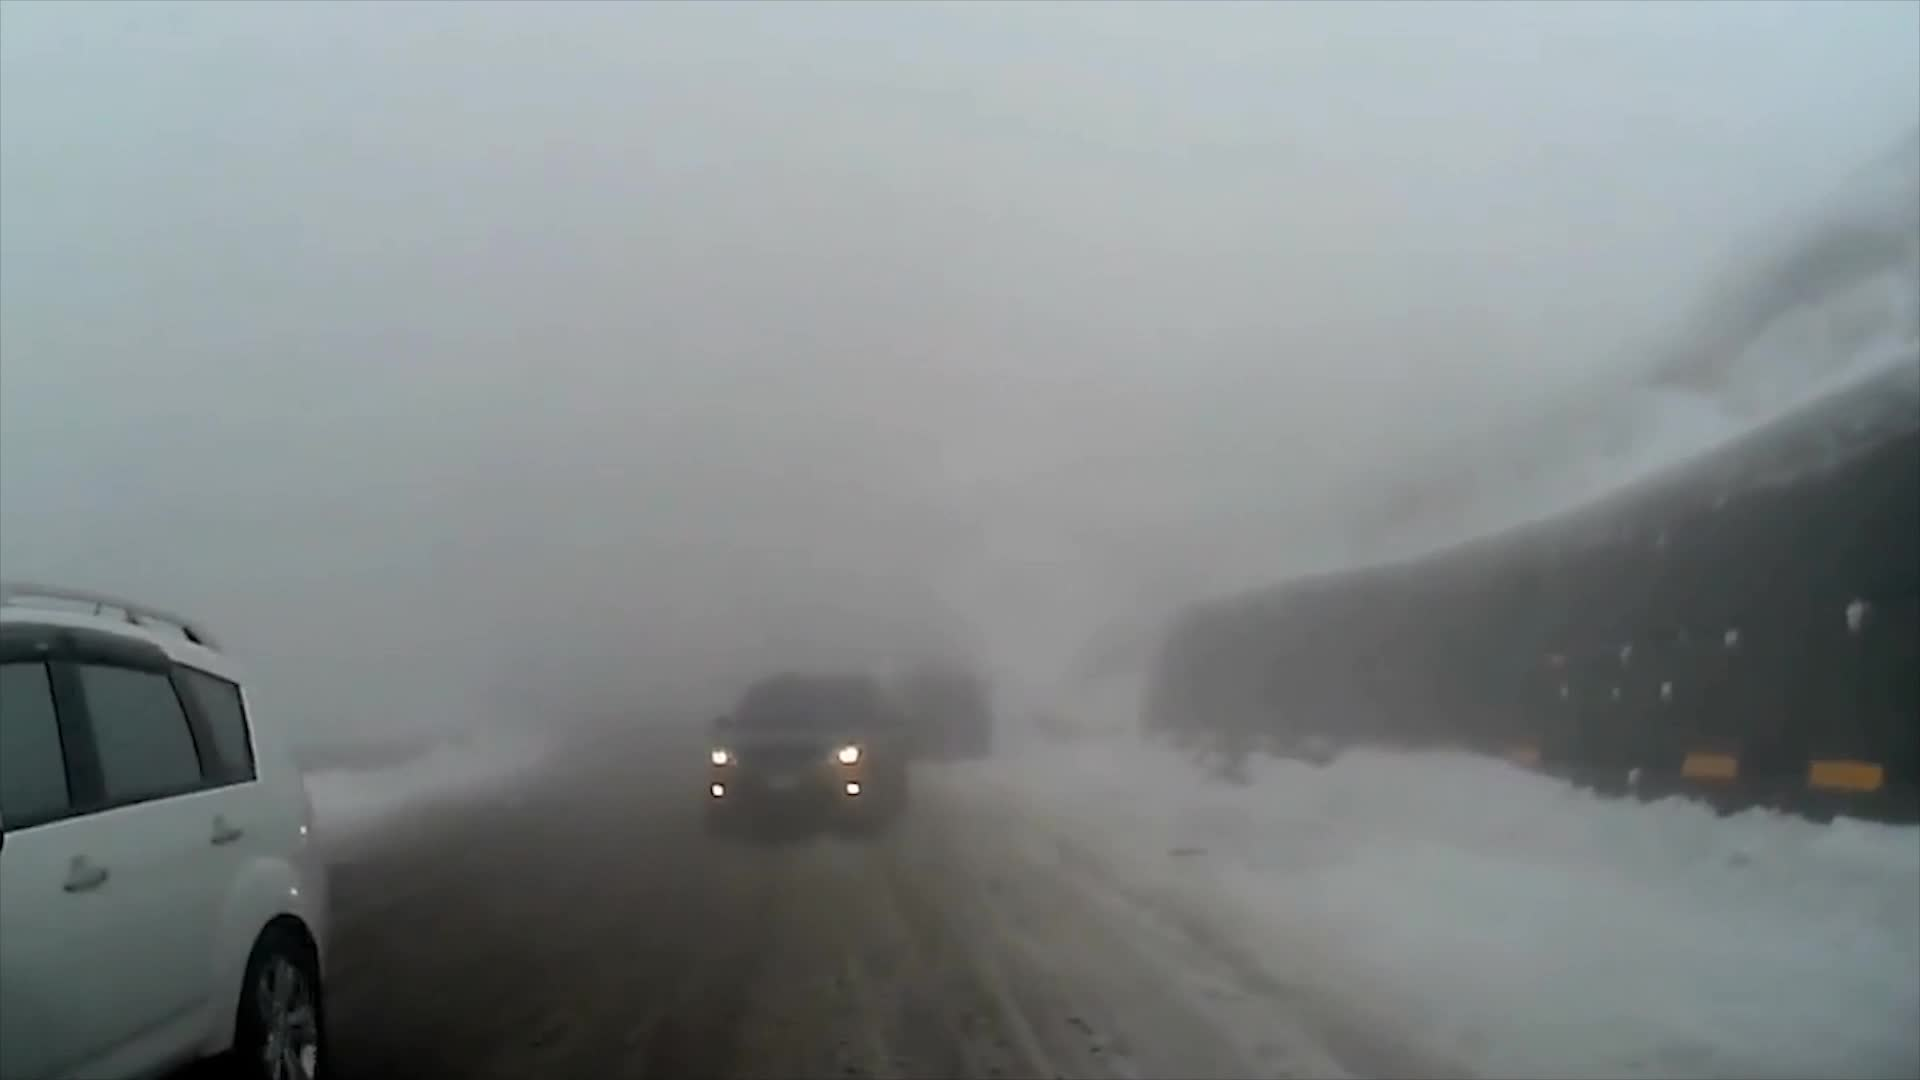vehicle: (0, 585, 338, 1080), (702, 666, 910, 839)
